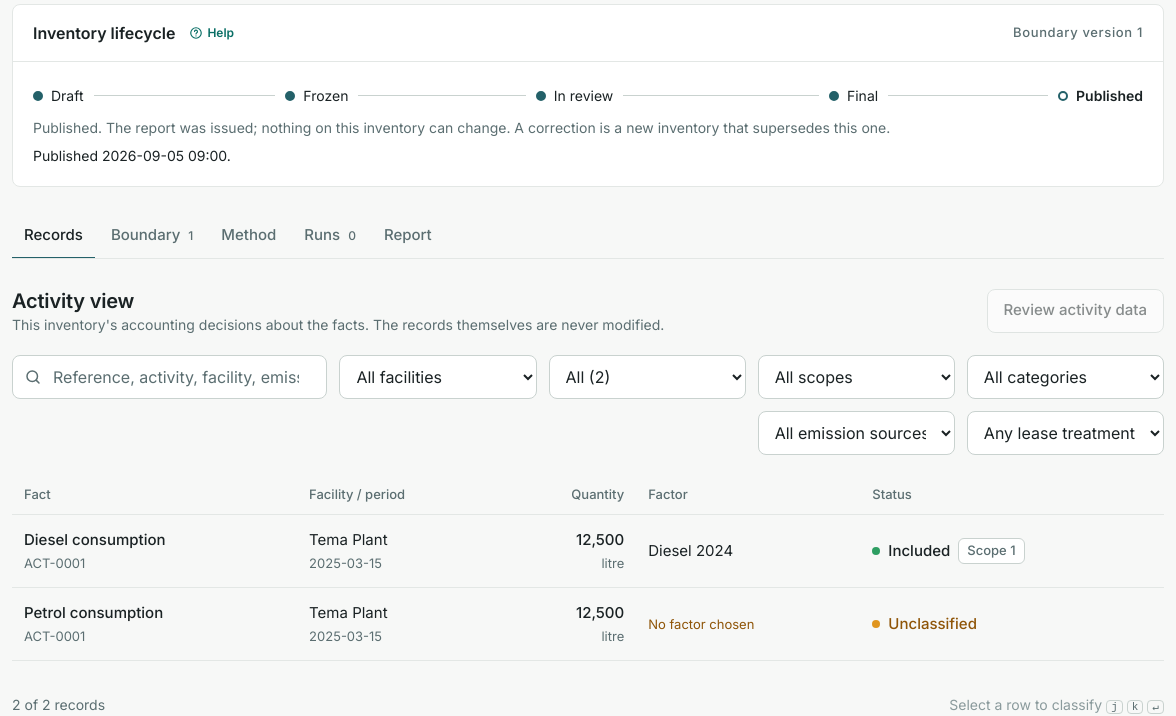
it: a record names its factor even when the factor lookup misses (ECO-7)
(page scrolled)
expect the row "Diesel consumption" shows "Diesel 2024": met, box [648,541,733,560]
expect the text "No factor chosen" is shown: met, box [648,616,754,632]
Note: the detail panel of the published record names it too
Click the button "Diesel consumption": (95, 540) [24,529,166,552]
(page scrolled)
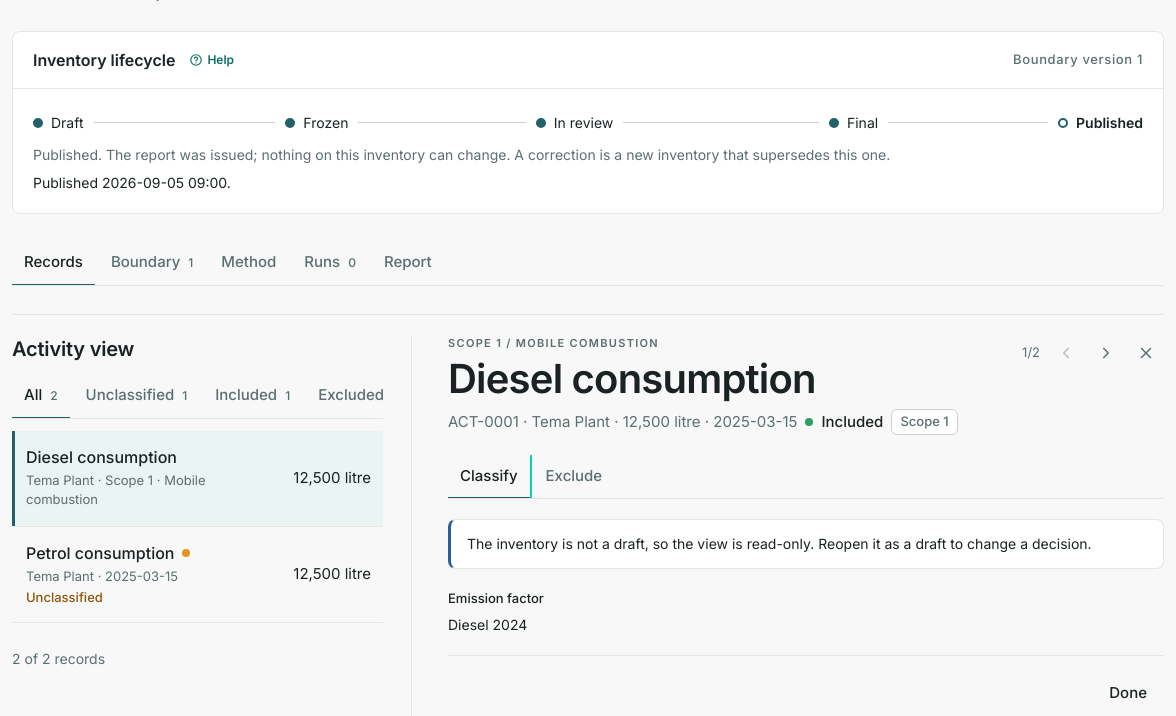
expect the text "Diesel 2024" is shown: met, box [448,616,527,632]
expect the text "No factor chosen" is gone: met
